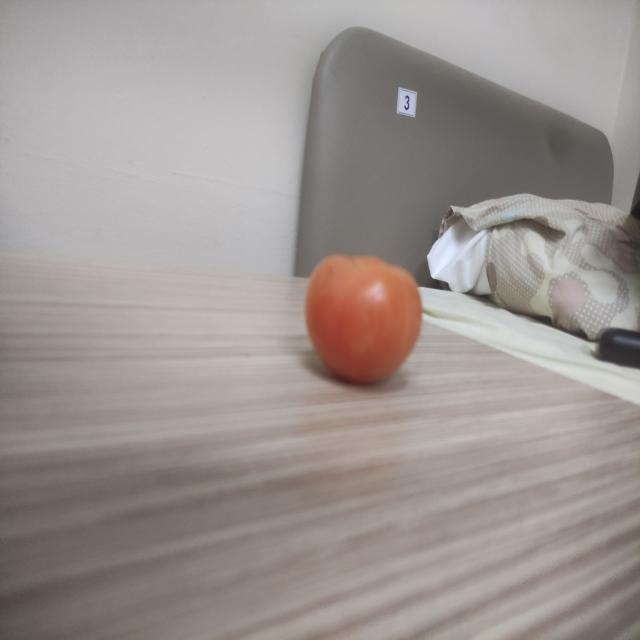sari: (293, 249, 436, 387)
